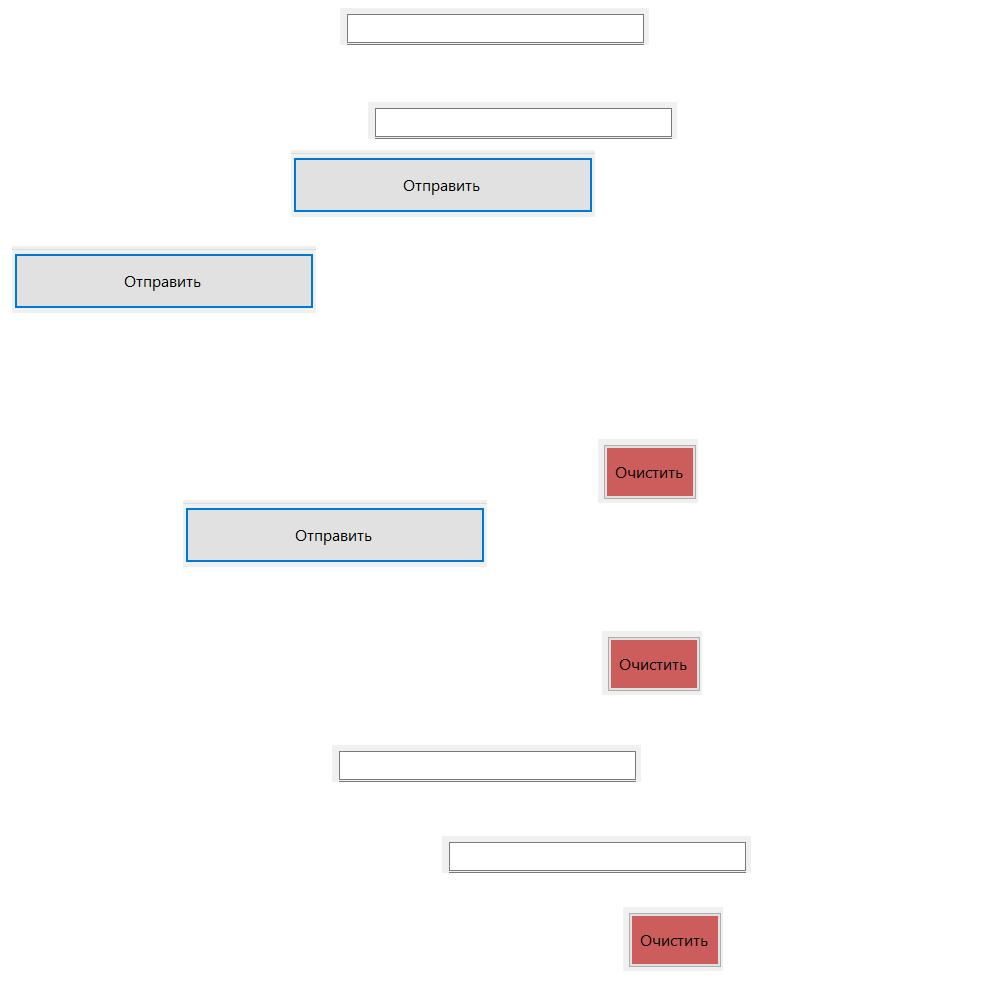Button: (12, 246, 316, 313), (291, 150, 595, 217), (183, 500, 487, 567), (598, 439, 698, 503), (623, 907, 723, 971), (602, 631, 702, 695)
EditText-: (340, 8, 649, 45), (368, 102, 677, 139), (332, 745, 641, 782), (442, 836, 751, 873)
